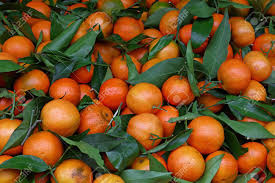orange: (18, 131, 70, 166), (188, 112, 228, 154), (126, 112, 166, 148), (167, 147, 206, 181), (41, 101, 83, 131), (215, 57, 251, 92), (162, 75, 197, 108), (98, 76, 131, 107), (130, 83, 164, 112), (49, 76, 83, 103), (147, 39, 180, 61)
